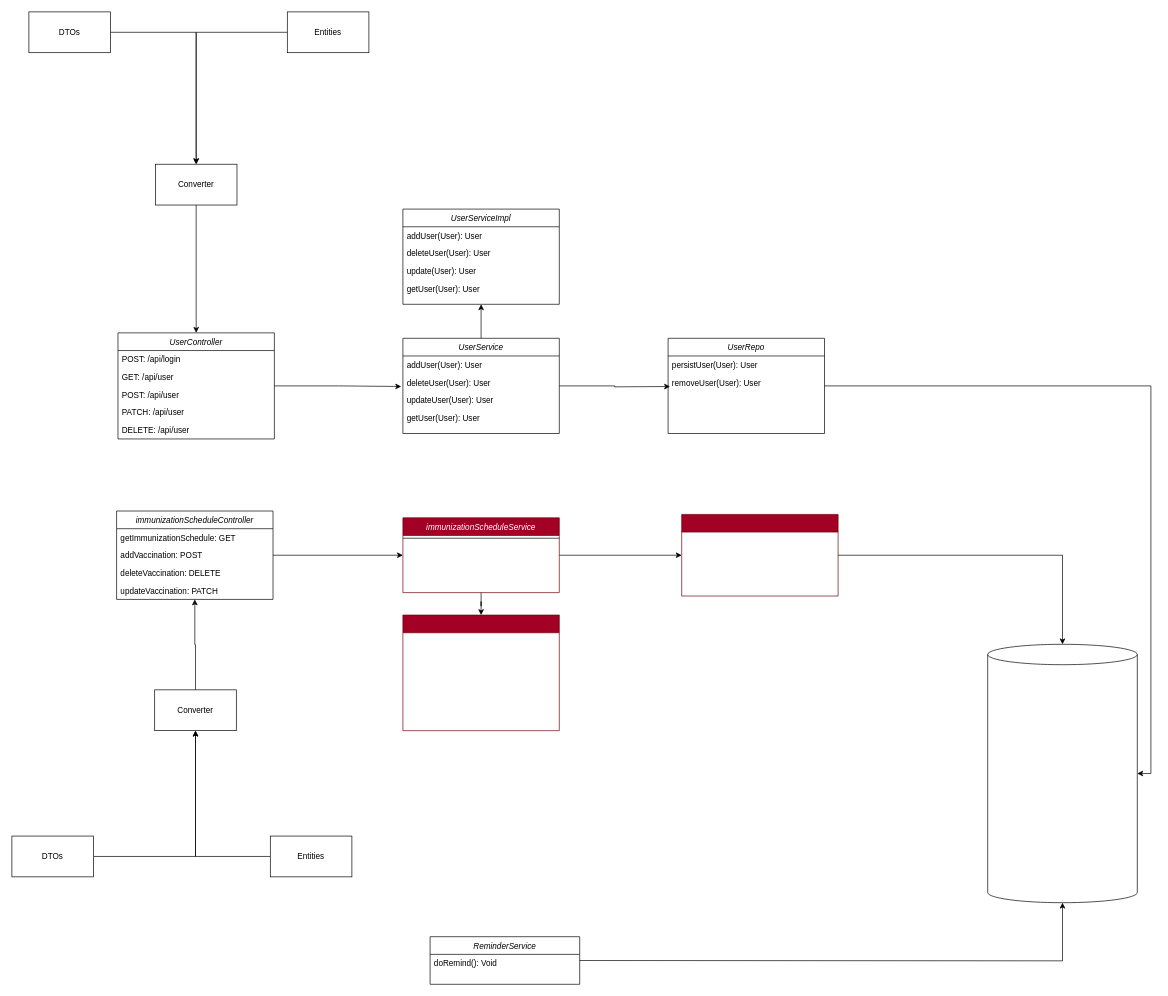
The diagram is 1168 pixels wide and 996 high, and some of its shapes have lost their labels. The shapes that lost their labels are listed below. From the top down, each one's centre as x and y in pixels, then its label:
the point at 759,555: immunizationScheduleRepo
the point at 480,672: immunizationScheduleServiceImpl
the point at 1062,773: PostgresDB
